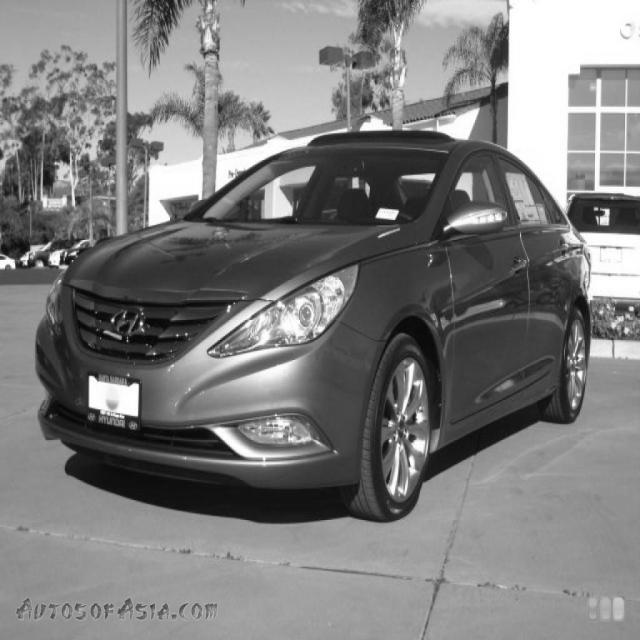car: (34, 124, 592, 523)
